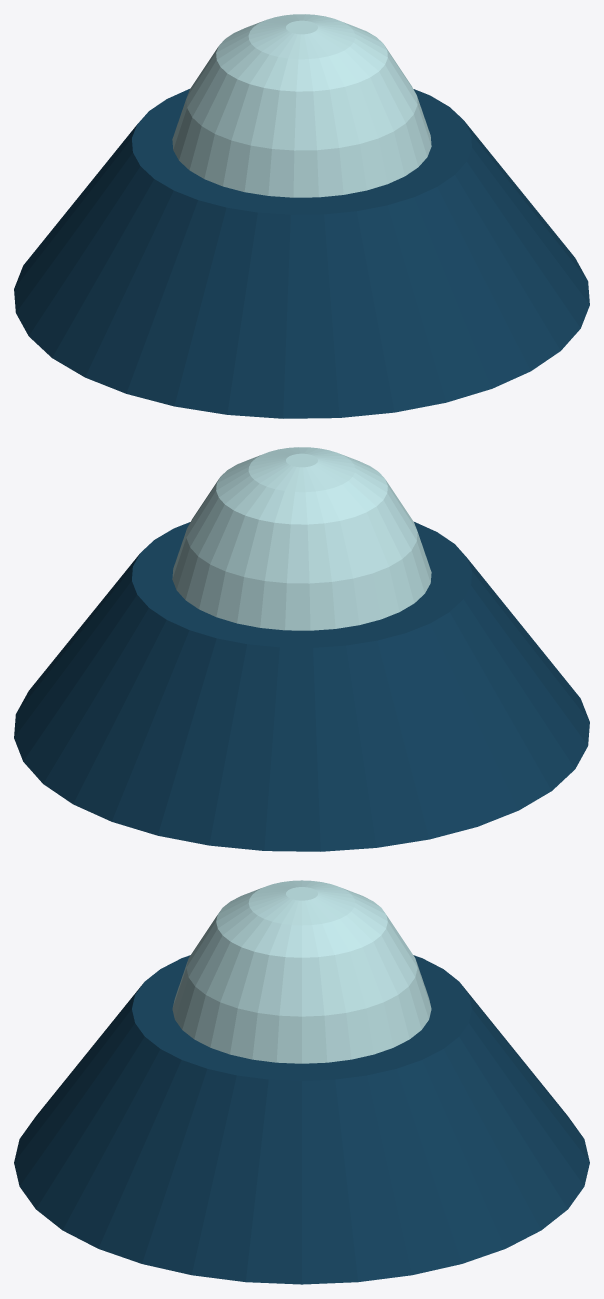
File: Player.fbx
3 views of the same model, one above another, from view 1: azimuth 30°, elevation 25°; view 2: azimuth 150°, elevation 25°; view 3: azimuth 270°, elevation 25° (orthographic).
Parts seen in each view (by area): view 1: Cylinder; view 2: Cylinder; view 3: Cylinder.
Boxes of the visible parts, left/top/right/bottom form: Cylinder: left=14, top=14, right=589, bottom=418; Cylinder: left=14, top=447, right=589, bottom=851; Cylinder: left=14, top=880, right=589, bottom=1284.
Bounding box in the file's own units: 311 × 160 × 311.
